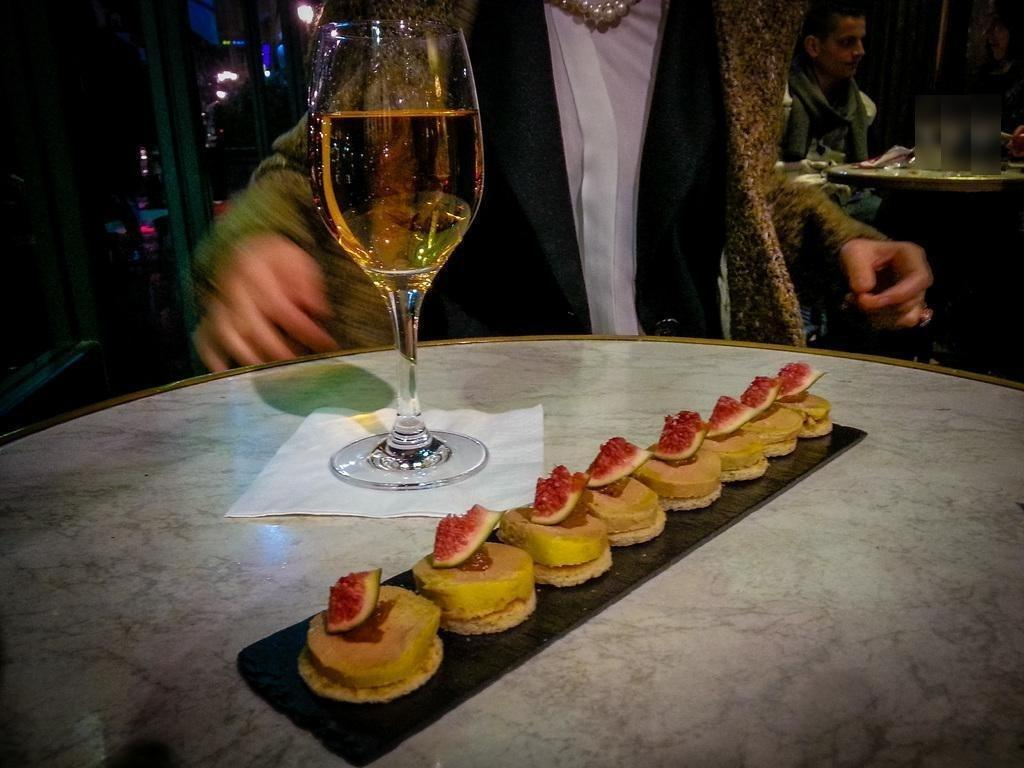glass-wine: (302, 16, 491, 489)
